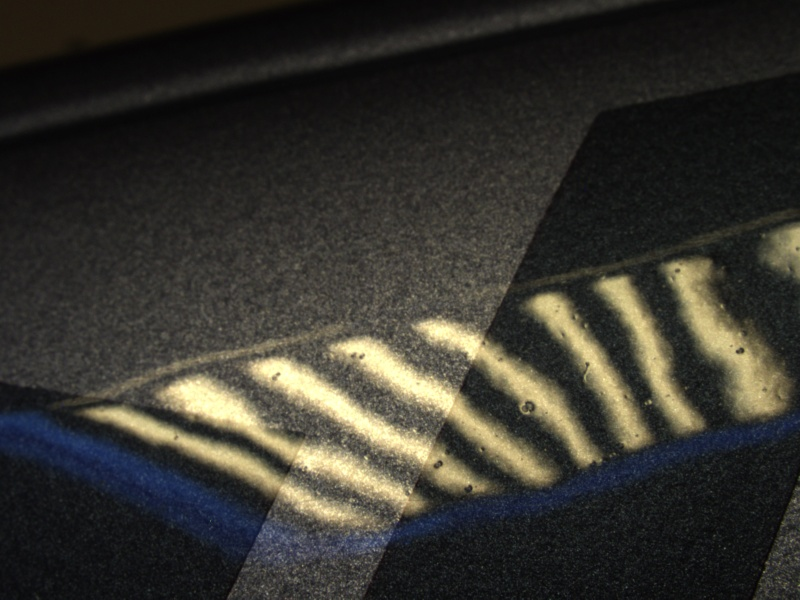bad: (512, 392, 543, 422)
